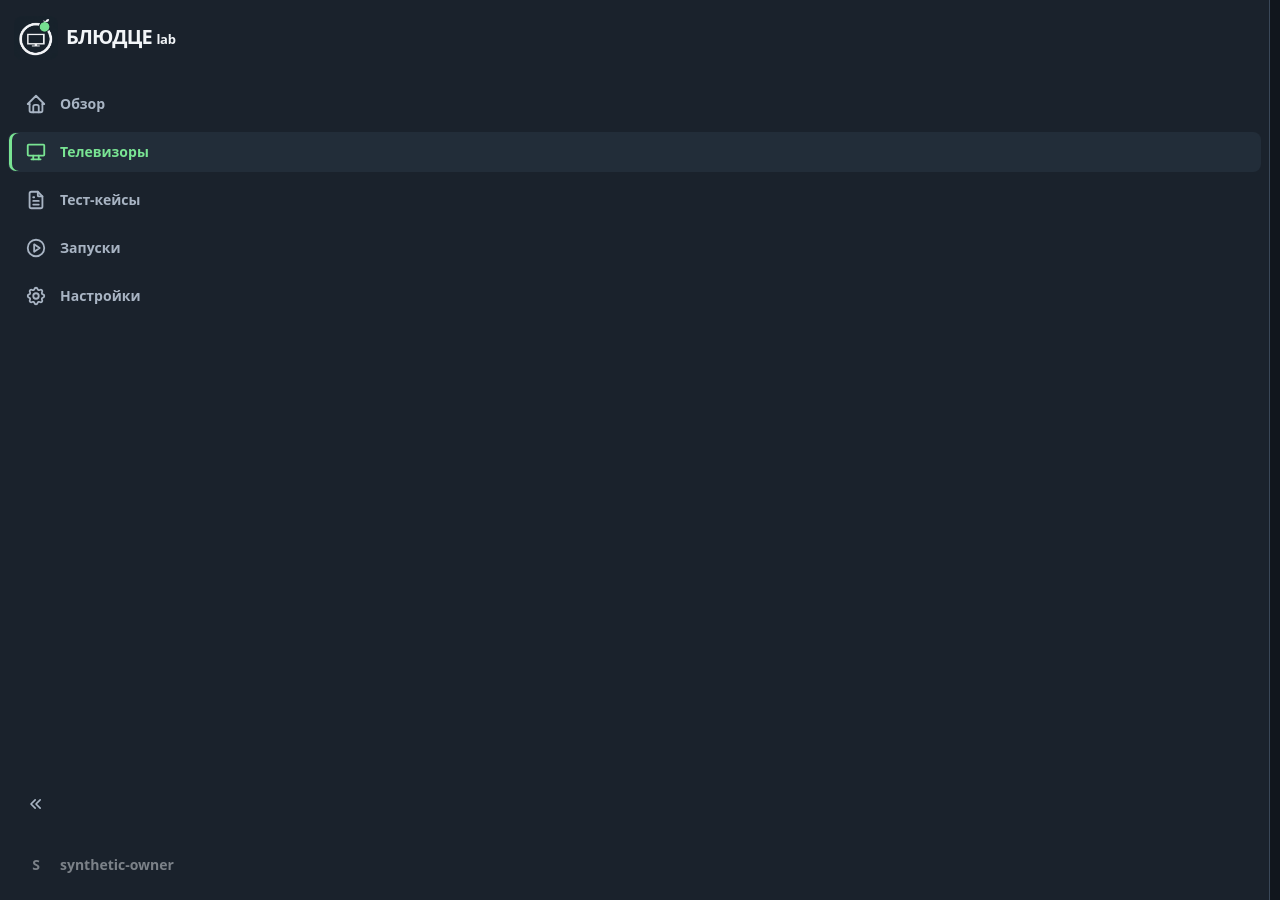
Scenario: collapse button stays available and reverses its action
Step 1. Click the button named "Свернуть меню" → coordinates (36, 804), box [20,788,52,820]
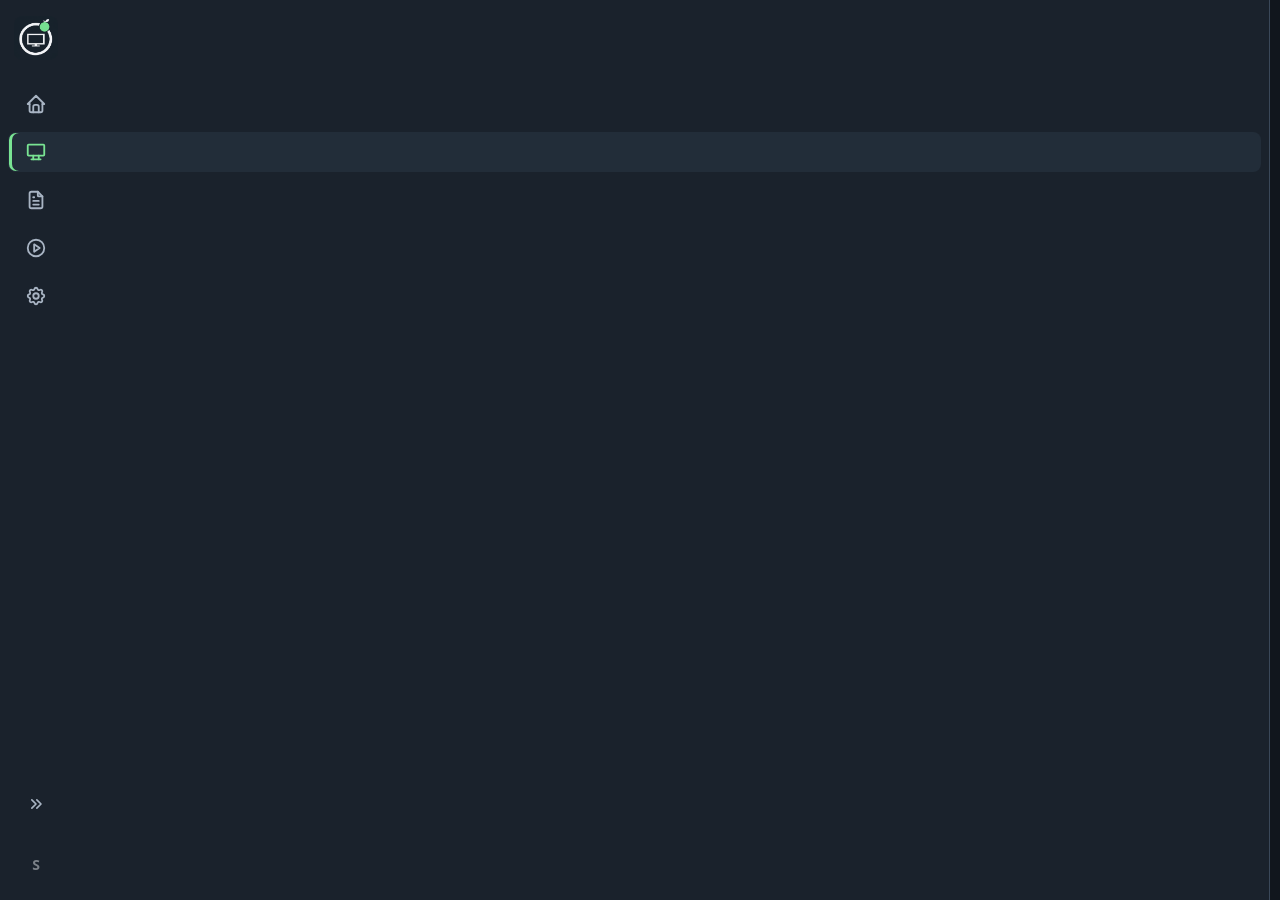
Step 2. Click the button named "Развернуть меню" → coordinates (36, 804), box [20,788,52,820]
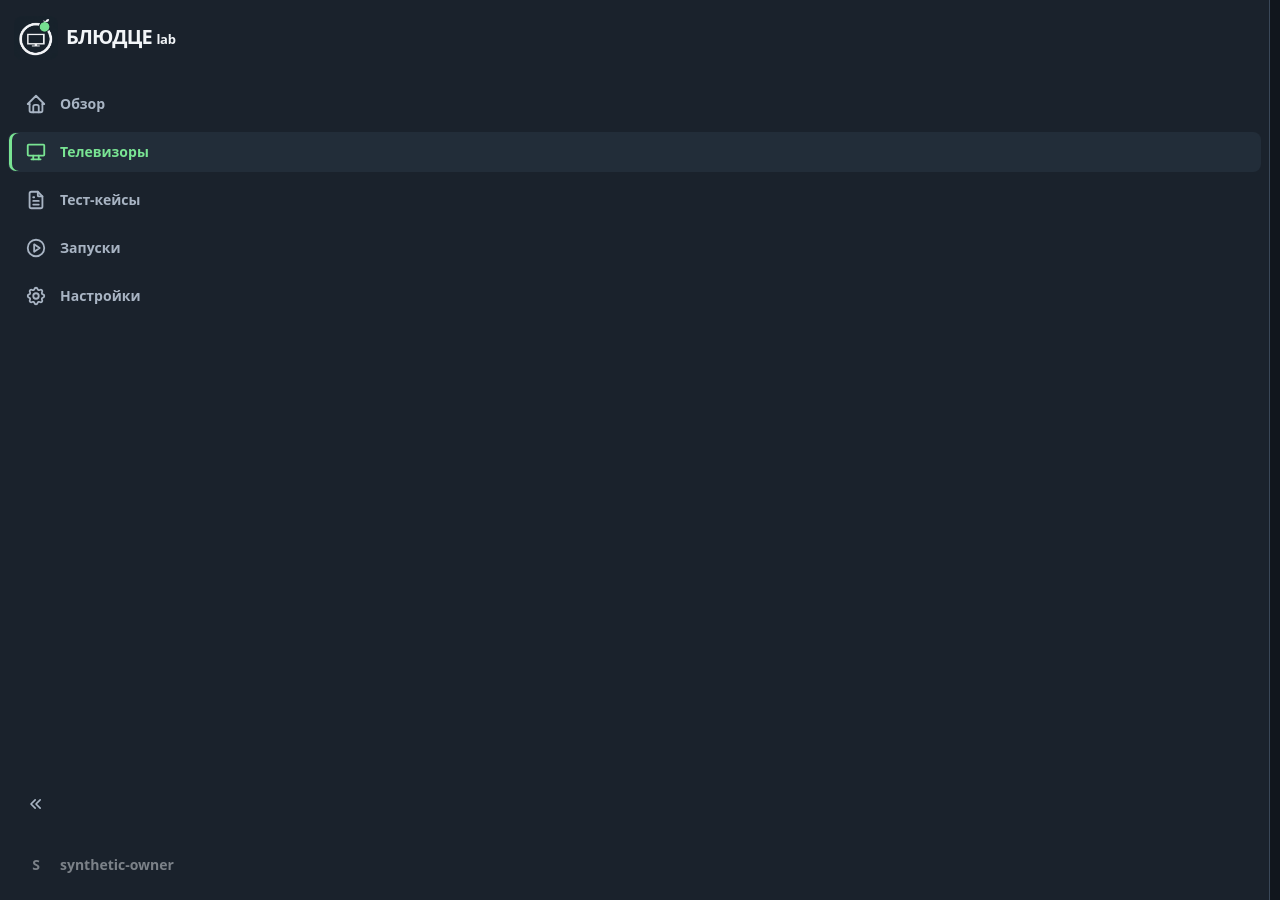
Now the button named "Свернуть меню" is shown, box [20,788,52,820]
